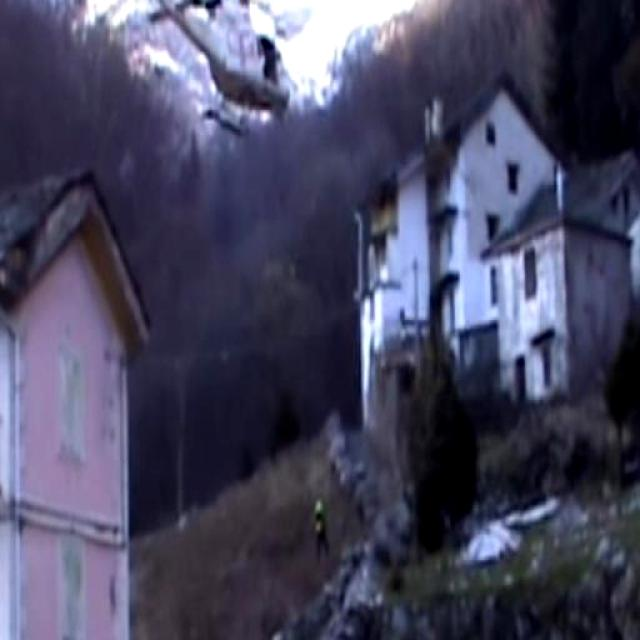drone: (135, 0, 291, 150)
